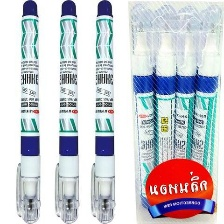correction_fluid: (188, 3, 223, 214), (170, 3, 204, 214), (14, 0, 44, 224), (51, 0, 81, 224), (89, 0, 117, 224), (128, 2, 157, 213), (152, 2, 180, 213)
